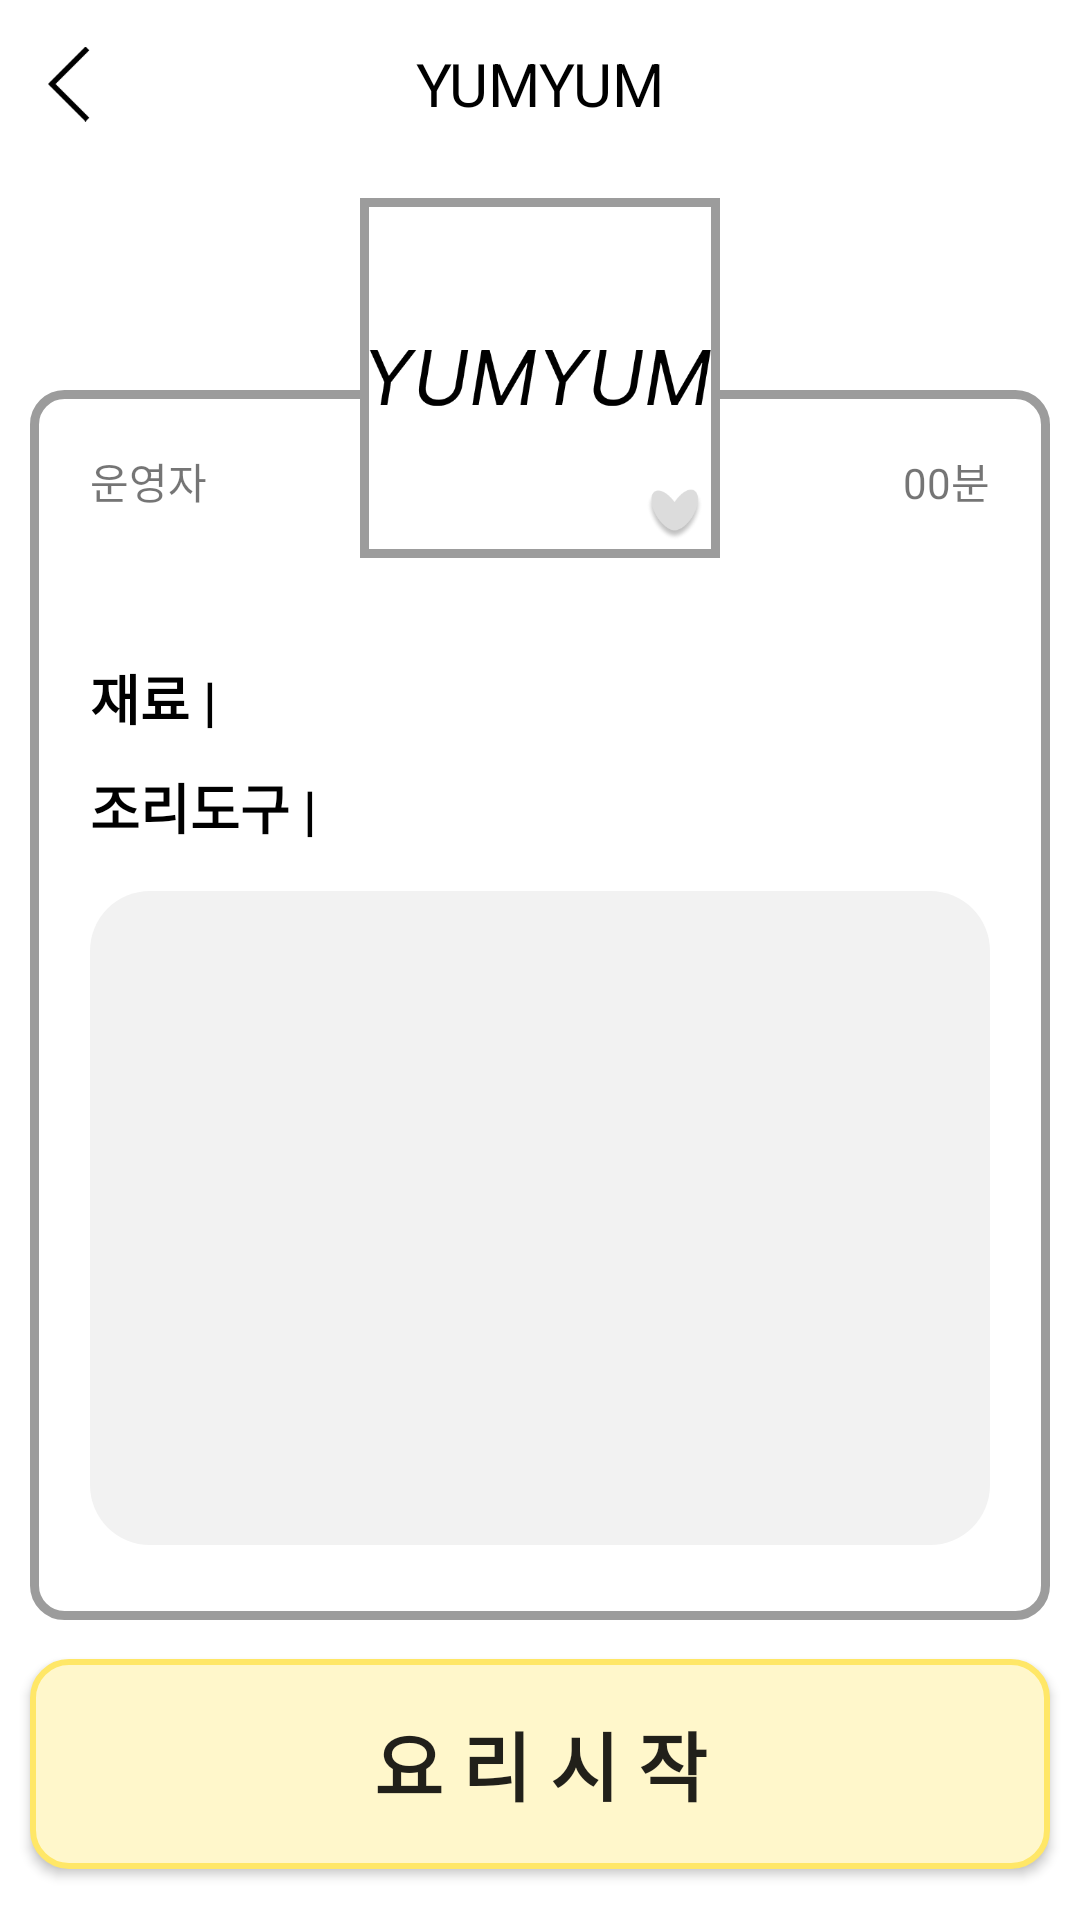

Where icons sit on this 1080px x 1920px app screen, as rect(x1, y1, x2, y2):
back: rect(48, 47, 89, 122)
